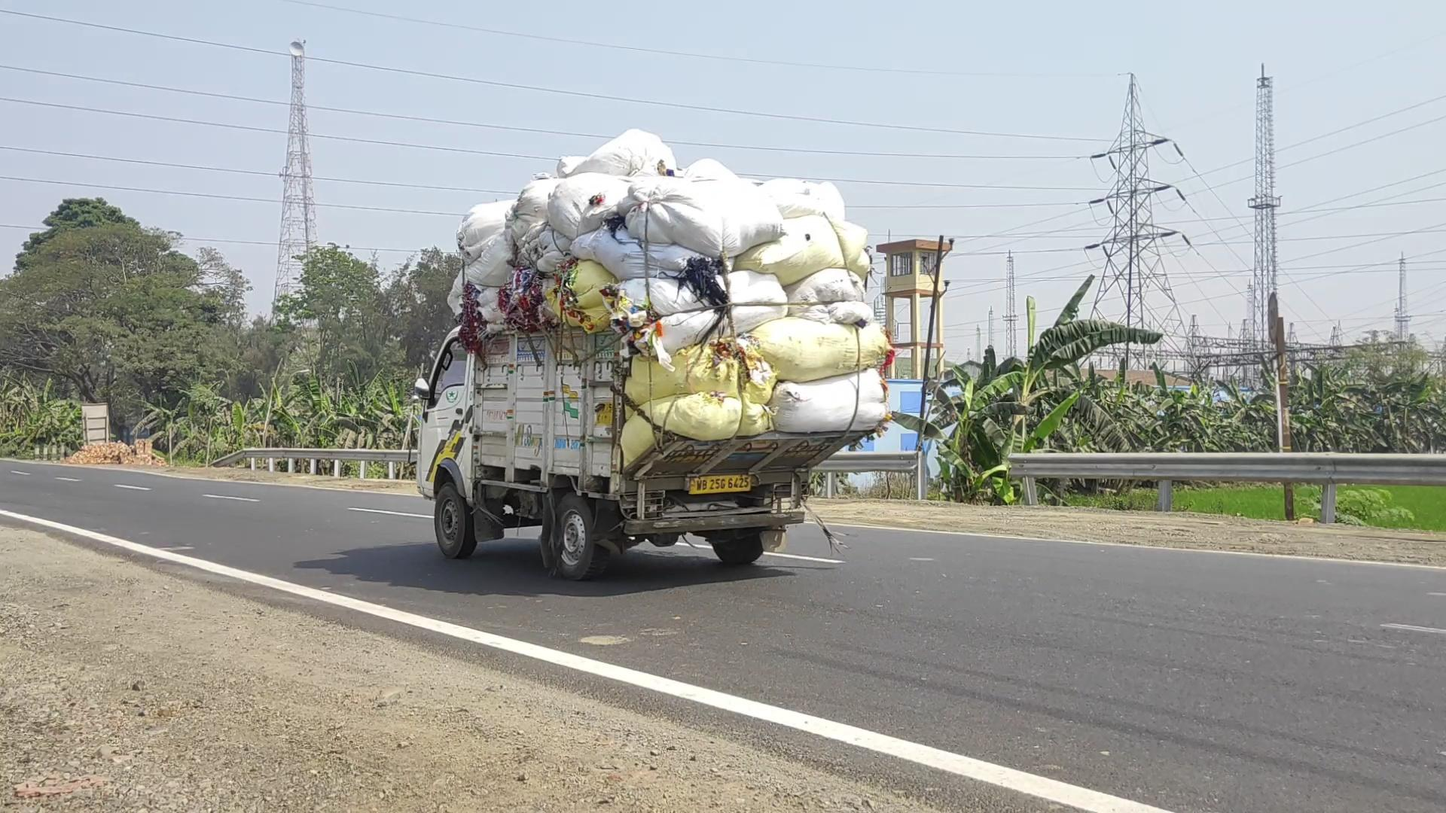van: (407, 132, 893, 583)
